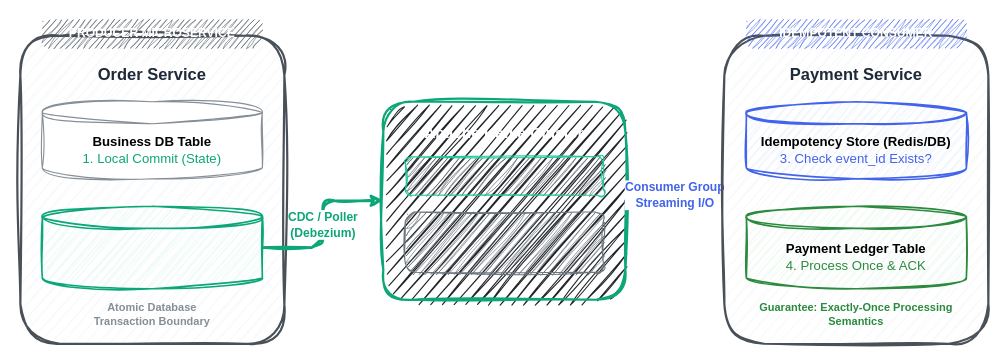
Some shapes in this 1008 by 363 pixel diagram are drawn without their labels. Each missing label, with the centre of its shape:
Partition 0 | Partition 1 | Partition 2 Strict Key-Ordered Streaming: (503,241)
topic: order-events: (503,175)
Transactional Outbox Table 2. Atomic Insert (Event): (152,247)
